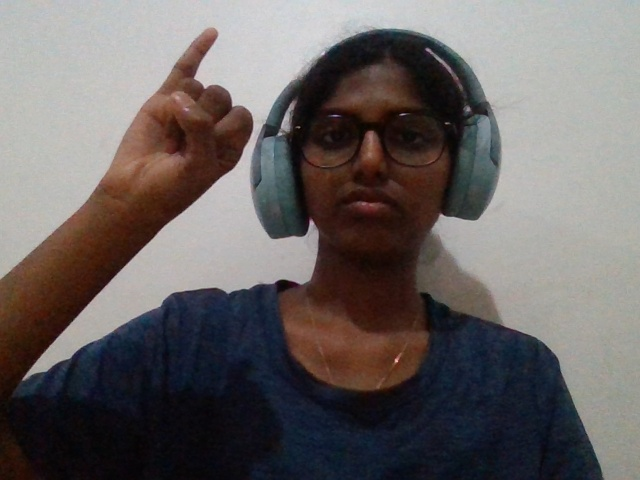I: (84, 13, 280, 262)
